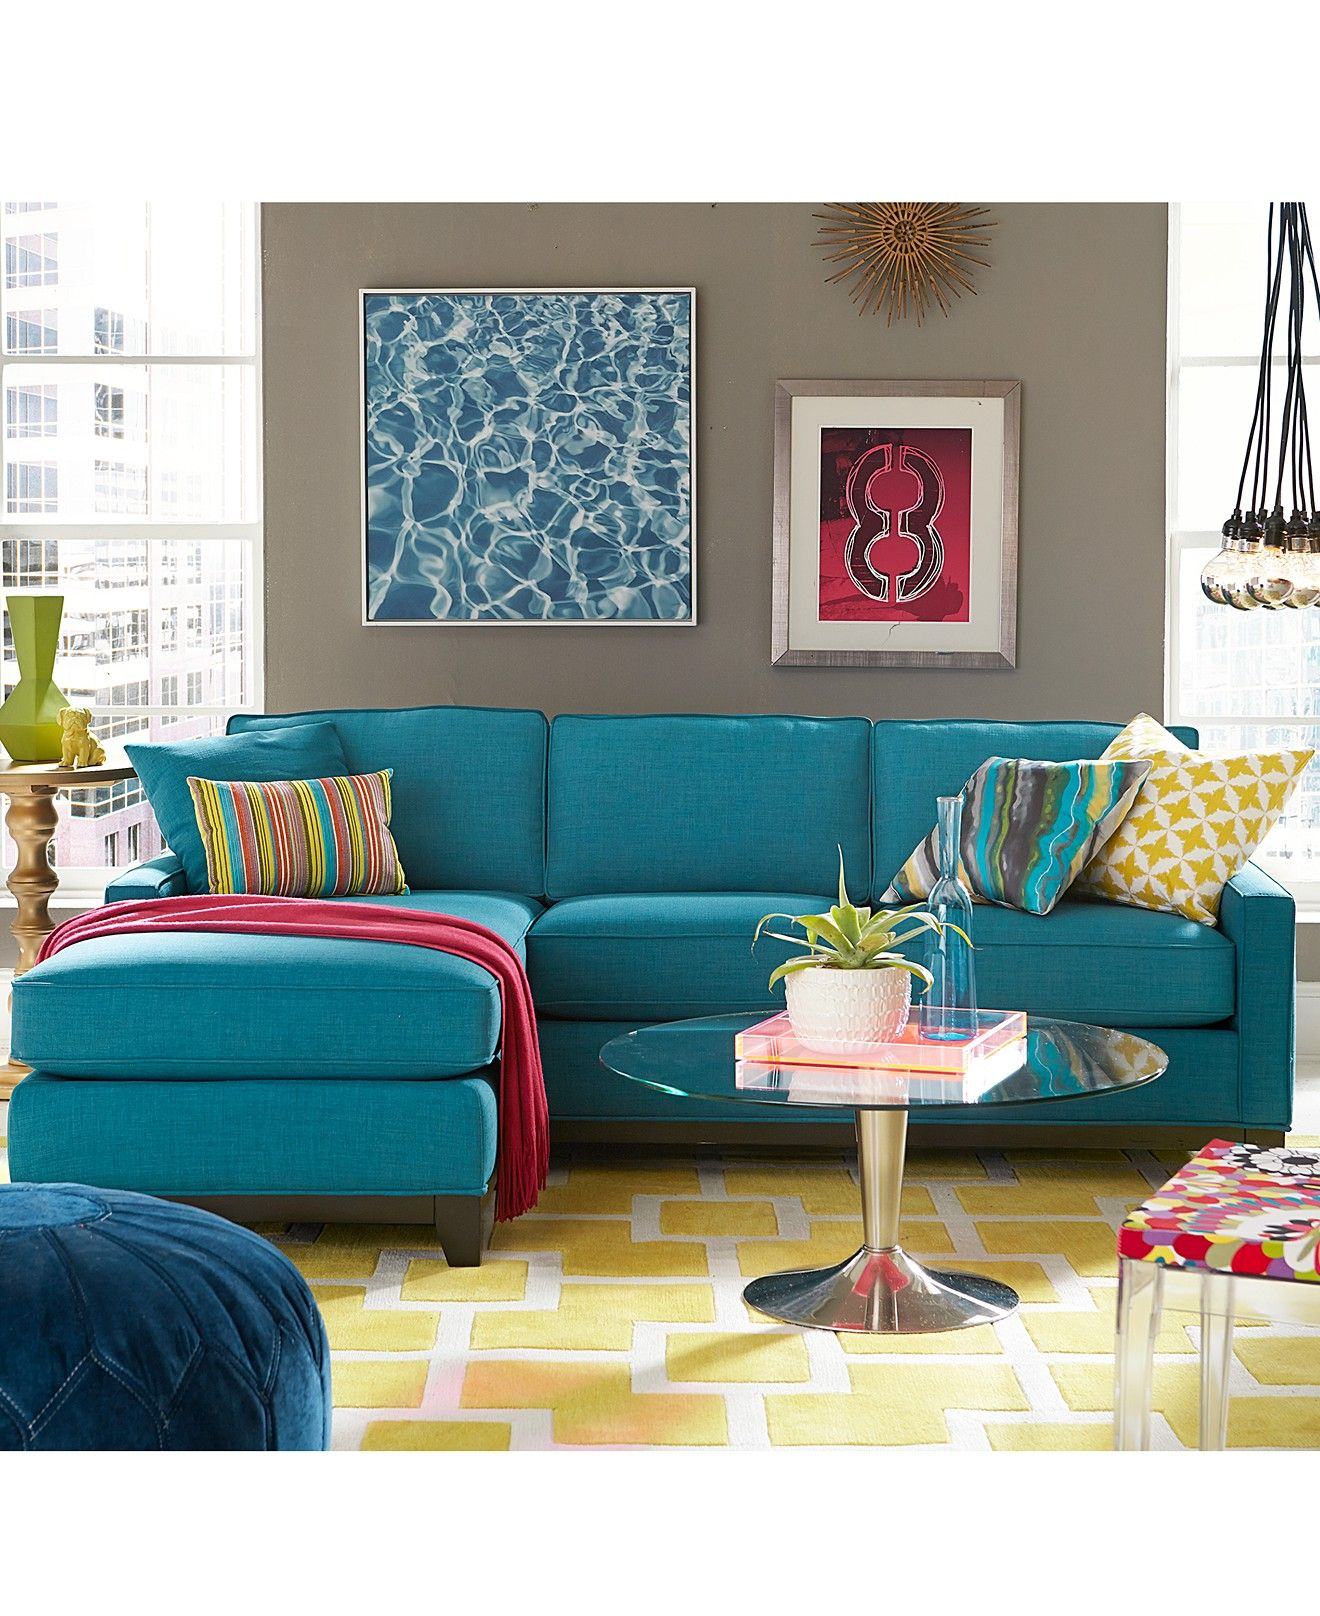chairs: (7, 697, 1307, 1276)
